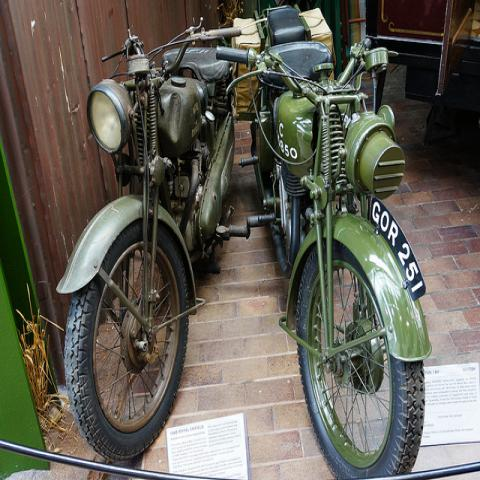motorcycle: (217, 1, 429, 475), (61, 35, 251, 459)
